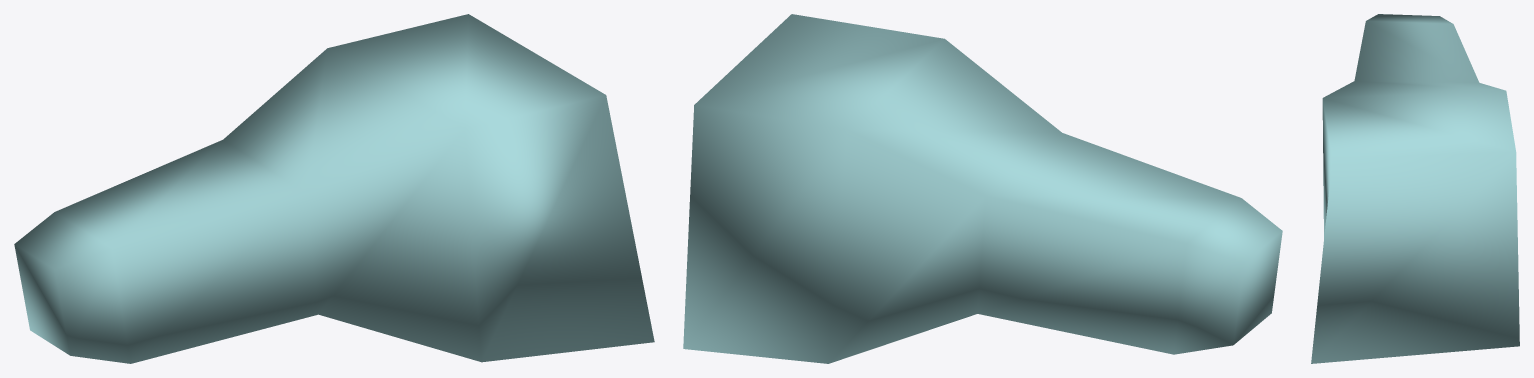
The model's file is Skelly_f_index.03.R.fbx.
3 renders of one model, left to right at view 1: azimuth 30°, elevation 25°; view 2: azimuth 150°, elevation 25°; view 3: azimuth 270°, elevation 25°, orthographic. The views are drawn at different scales.
Visible parts, largest first — view 1: Skelly_f_index.03.R; view 2: Skelly_f_index.03.R; view 3: Skelly_f_index.03.R.
Part boxes in pixels (x1,y1,x2,y2): Skelly_f_index.03.R: [14, 14, 654, 363]; Skelly_f_index.03.R: [683, 14, 1282, 363]; Skelly_f_index.03.R: [1311, 14, 1519, 363].
Bounding box in the file's own units: 2.63 × 1.14 × 1.09.
